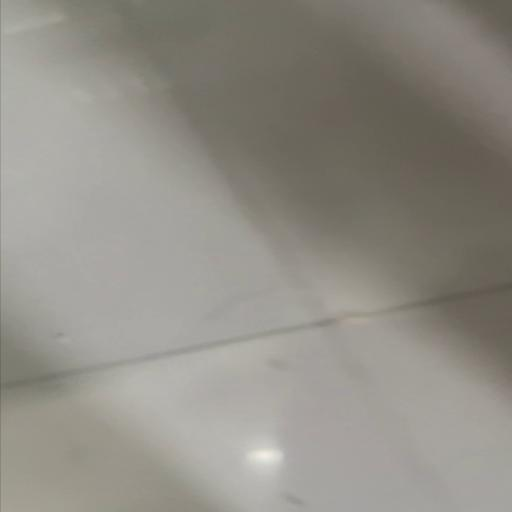street_golden_defect: (0, 0, 512, 449)
